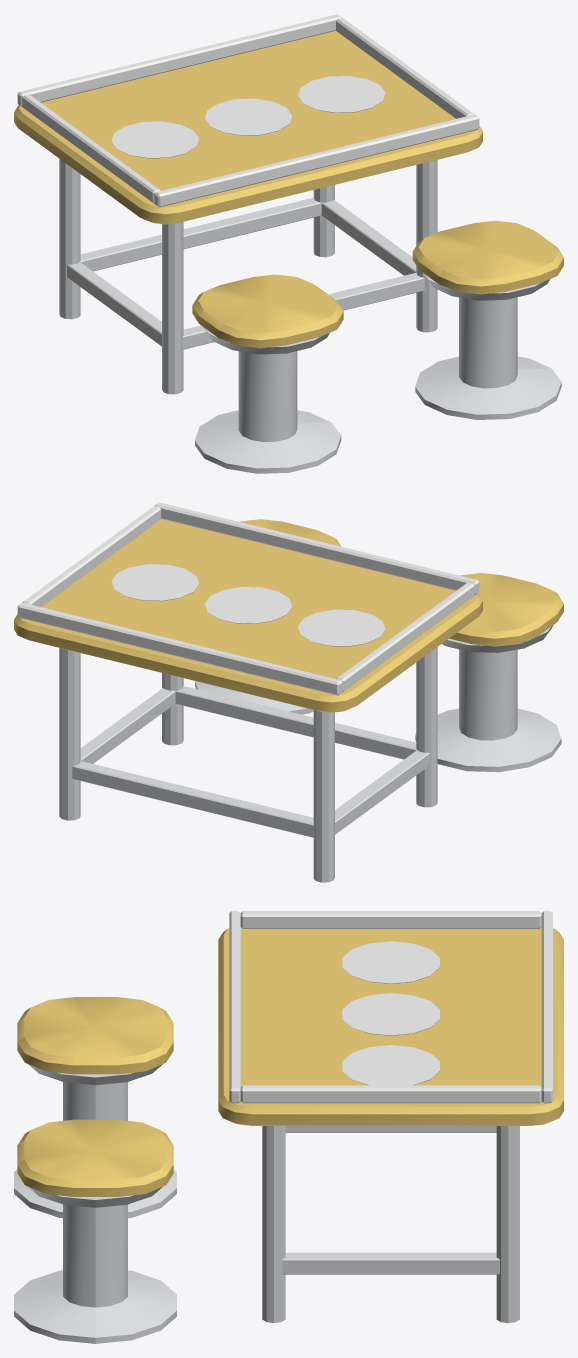
The model's file is clinic-and-veterinary-practice-child-play-table-bdb3e5a9__16719.glb.
The picture shows the model from 3 angles, top to bottom: view 1: azimuth 30°, elevation 25°; view 2: azimuth 150°, elevation 25°; view 3: azimuth 270°, elevation 25°; orthographic projection. The views are drawn at different scales.
Visible parts, largest first — view 1: child-play-table; view 2: child-play-table; view 3: child-play-table.
Boxes of the visible parts, box(x1,y1,x2,y2) form: child-play-table: box(14, 14, 563, 473); child-play-table: box(14, 502, 563, 882); child-play-table: box(14, 911, 563, 1343).
Size of the model in its own units: 0.82 by 0.49 by 0.9862.
